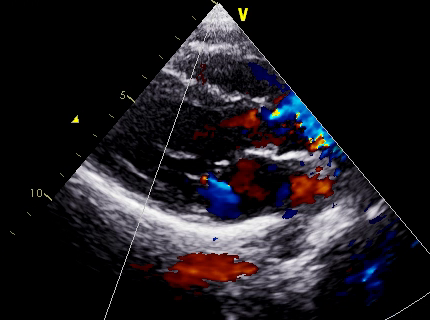MR: (176, 160, 250, 233)
